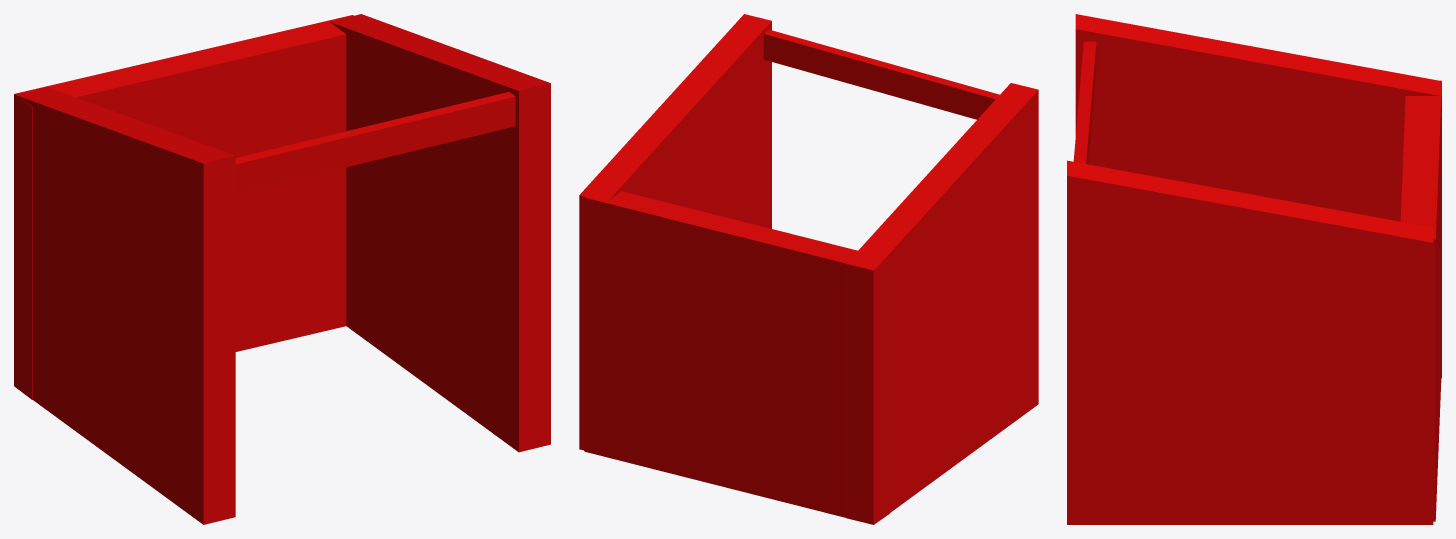
File: SM_Bld_Junk_Shelter_02_Collision.fbx
The picture shows the model from 3 angles, left to right: view 1: azimuth 30°, elevation 25°; view 2: azimuth 150°, elevation 25°; view 3: azimuth 270°, elevation 25°; orthographic projection. The views are drawn at different scales.
Visible parts, largest first — view 1: SM_Bld_Junk_Shelter_02_Collision; view 2: SM_Bld_Junk_Shelter_02_Collision; view 3: SM_Bld_Junk_Shelter_02_Collision.
Part boxes in pixels (<box>): SM_Bld_Junk_Shelter_02_Collision: <box>14,14,550,524</box>; SM_Bld_Junk_Shelter_02_Collision: <box>579,14,1038,524</box>; SM_Bld_Junk_Shelter_02_Collision: <box>1067,14,1441,524</box>.
Size of the model in its own units: 270 by 272 by 264.
